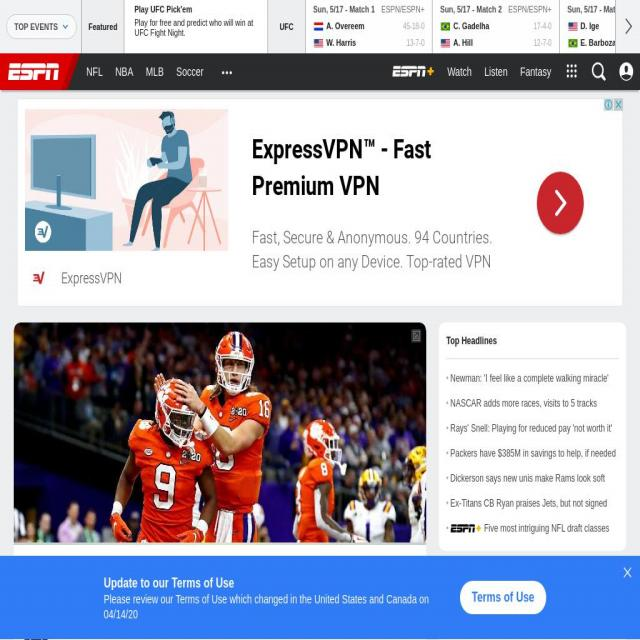navigation-links: (4, 3, 640, 94)
options: (218, 59, 238, 86), (564, 58, 580, 84)
search: (589, 57, 610, 86)
